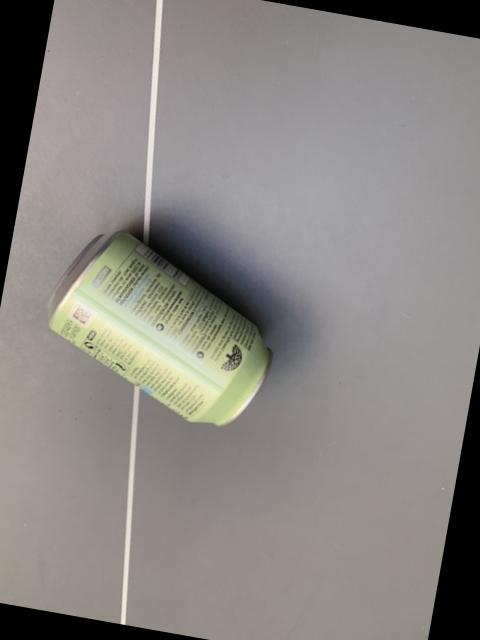metal: (47, 231, 268, 425)
